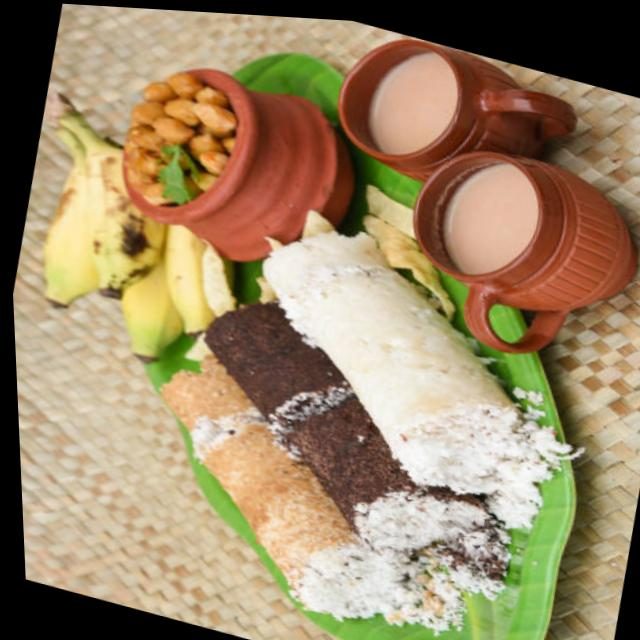BANANA: (40, 89, 211, 373)
PUTTU: (158, 232, 579, 634)
SUNDAL: (114, 73, 240, 203)
